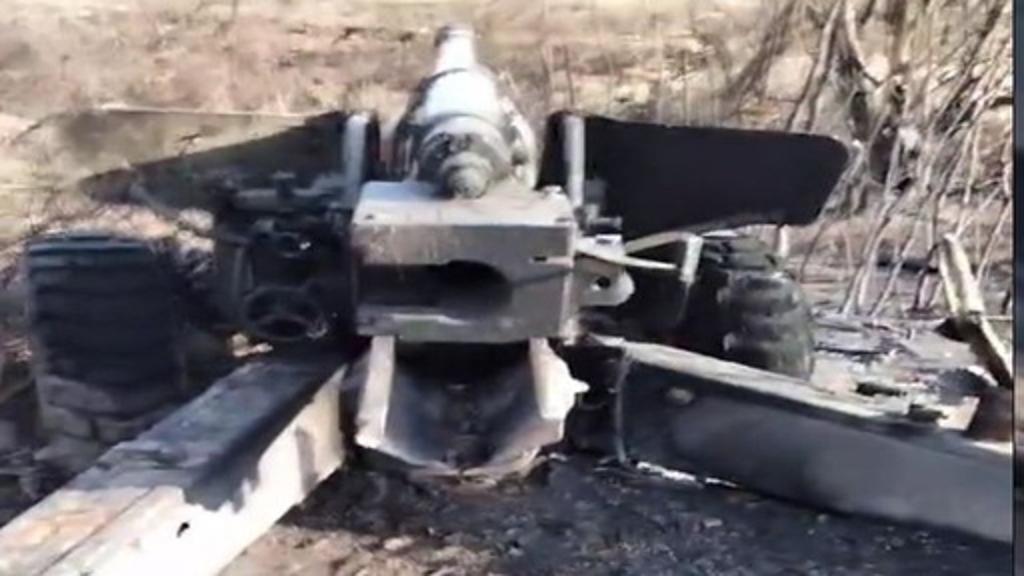ART: (20, 20, 852, 526)
